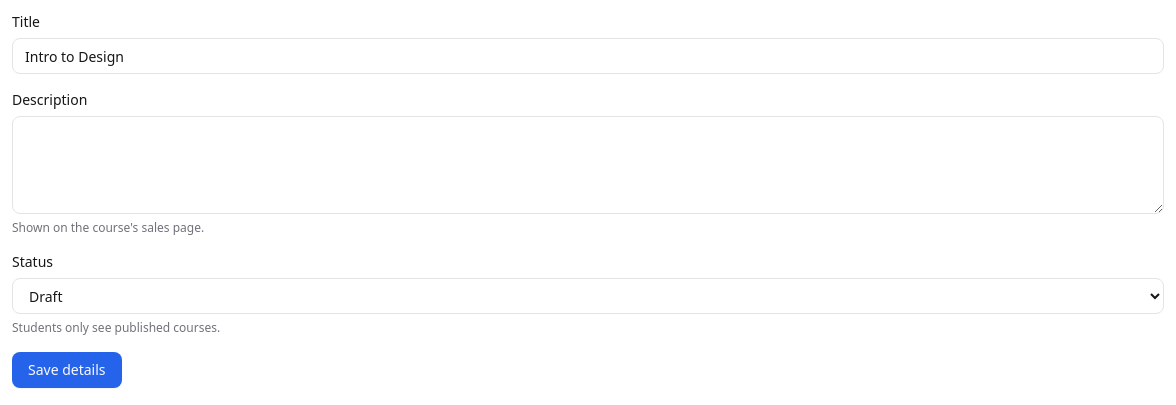
Test case: CourseSettingsForm › submits the edited details and confirms the save
The image size is (1176, 405).
Expected: the field labelled "Title" is shown, x1=12 y1=38 x2=1164 y2=74
Type "Logos and type" into the text box labelled "Description". click: (588, 165)
box: x1=12 y1=116 x2=1164 y2=214
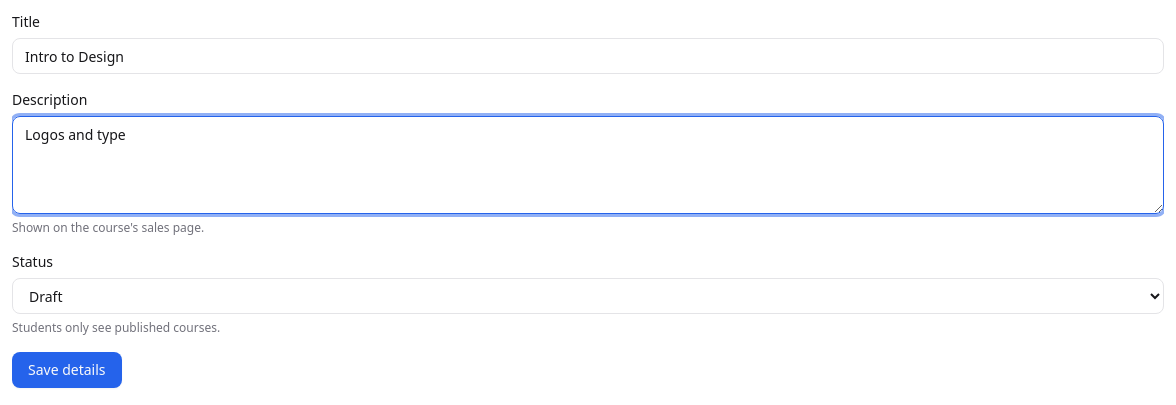
Select "Published" in the dropdown labelled "Status". click: (588, 296)
box: x1=12 y1=278 x2=1164 y2=314
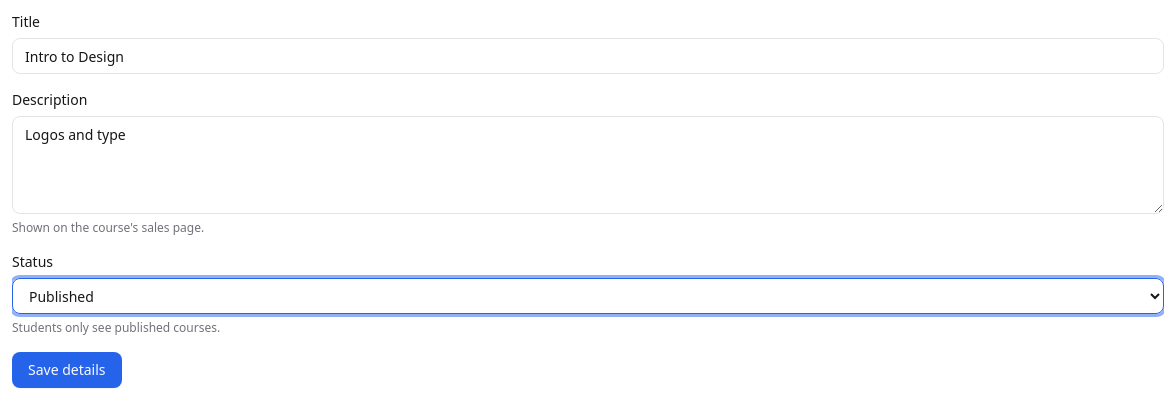
Click the button "Save details". click: (67, 370)
box: x1=12 y1=352 x2=122 y2=388
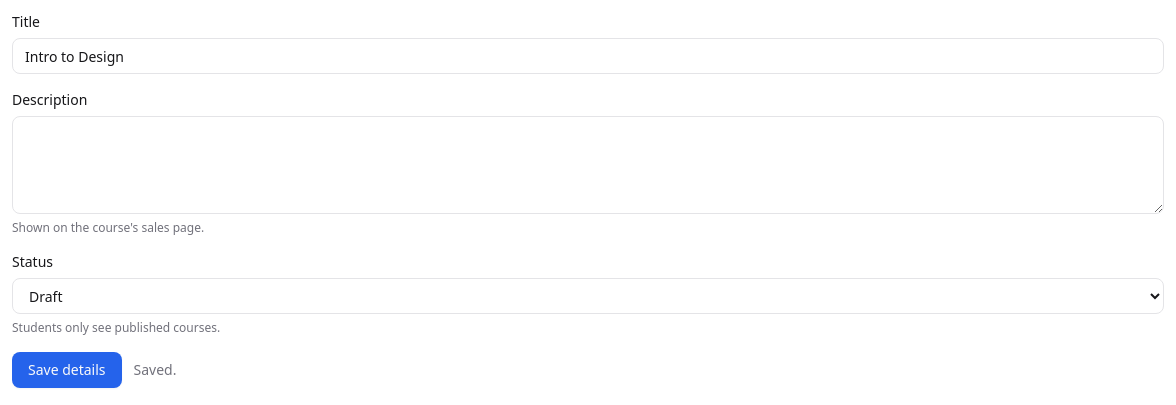
Now the message reads "Saved.", box x1=134 y1=360 x2=176 y2=379
